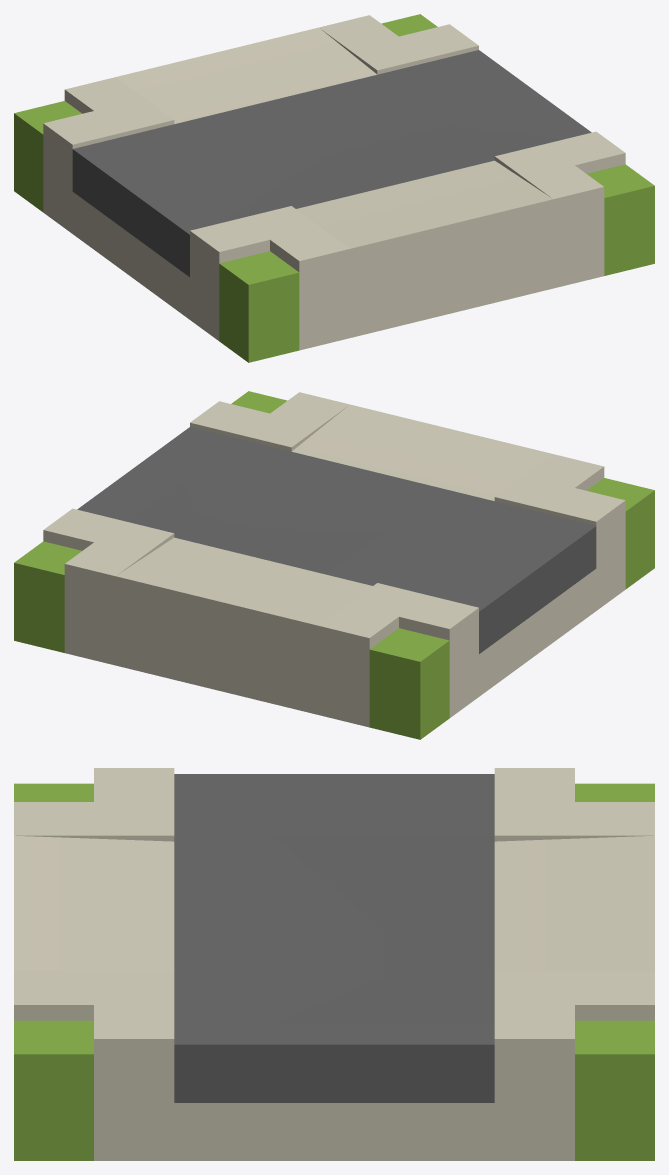
The model's file is road-one-way-sidewall-ramp-both-grass.obj.
The picture shows the model from 3 angles, top to bottom: view 1: azimuth 30°, elevation 25°; view 2: azimuth 150°, elevation 25°; view 3: azimuth 270°, elevation 25°; orthographic projection. The views are drawn at different scales.
Visible parts, largest first — view 1: Mesh1_Group1_Model.141; view 2: Mesh1_Group1_Model.141; view 3: Mesh1_Group1_Model.141.
Part boxes in pixels (box(x1,y1,x2,y2)): Mesh1_Group1_Model.141: box(14, 14, 654, 362); Mesh1_Group1_Model.141: box(14, 391, 654, 739); Mesh1_Group1_Model.141: box(14, 768, 654, 1160).
Size of the model in its own units: 3 by 0.63 by 3.
